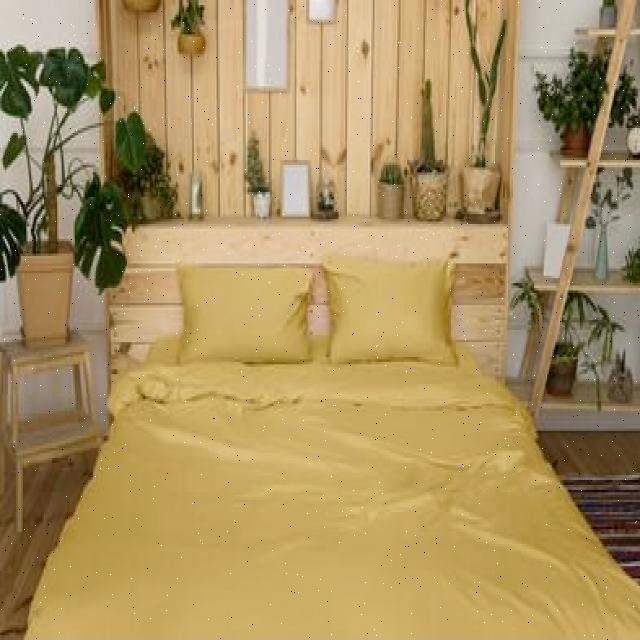bed: (68, 261, 575, 640)
